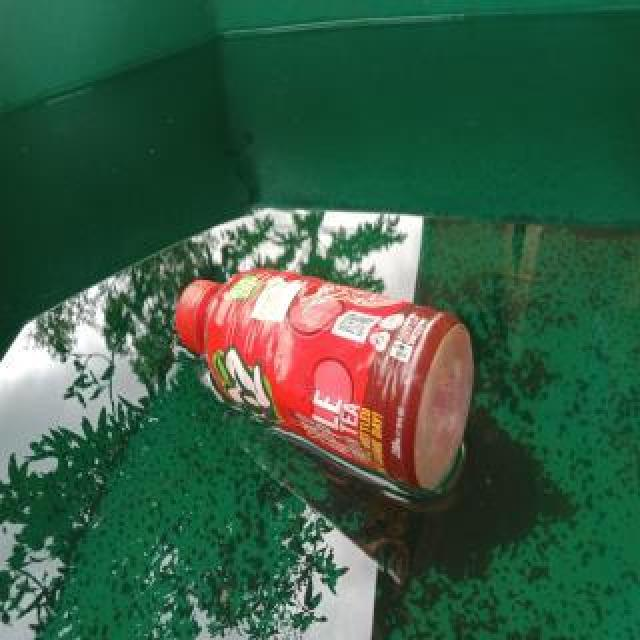bottle: (172, 263, 478, 493)
